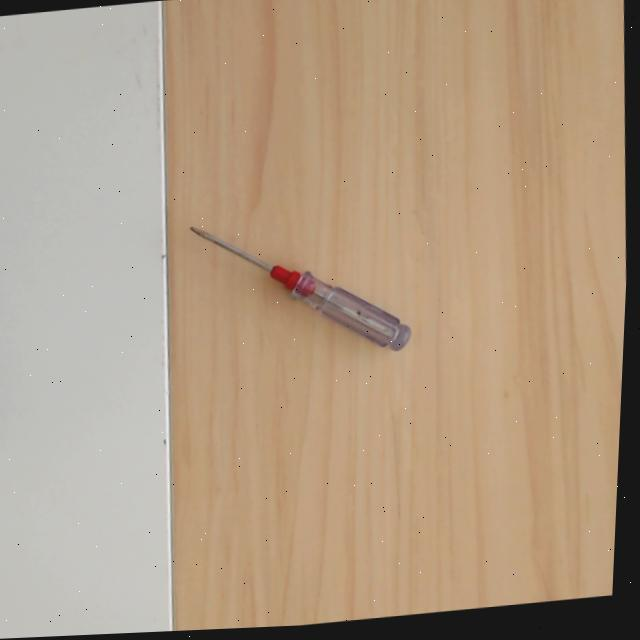Obeng-Kecil: (182, 213, 414, 358)
